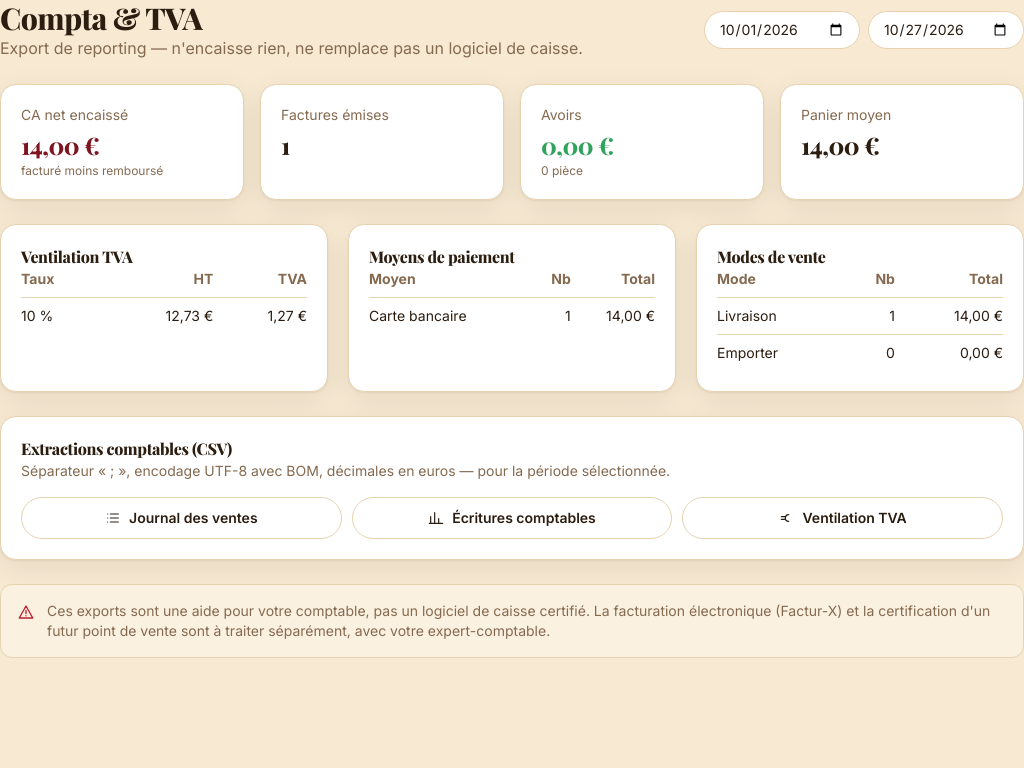
Test case: Compta — quand la lecture échoue › refuse les exports dès qu'une borne est effacée
// Le geste normal pour retaper une date : vider le champ d'abord.
Clear the date field named "Du" at (782, 30), box top-left (704, 11), bottom-right (860, 49)
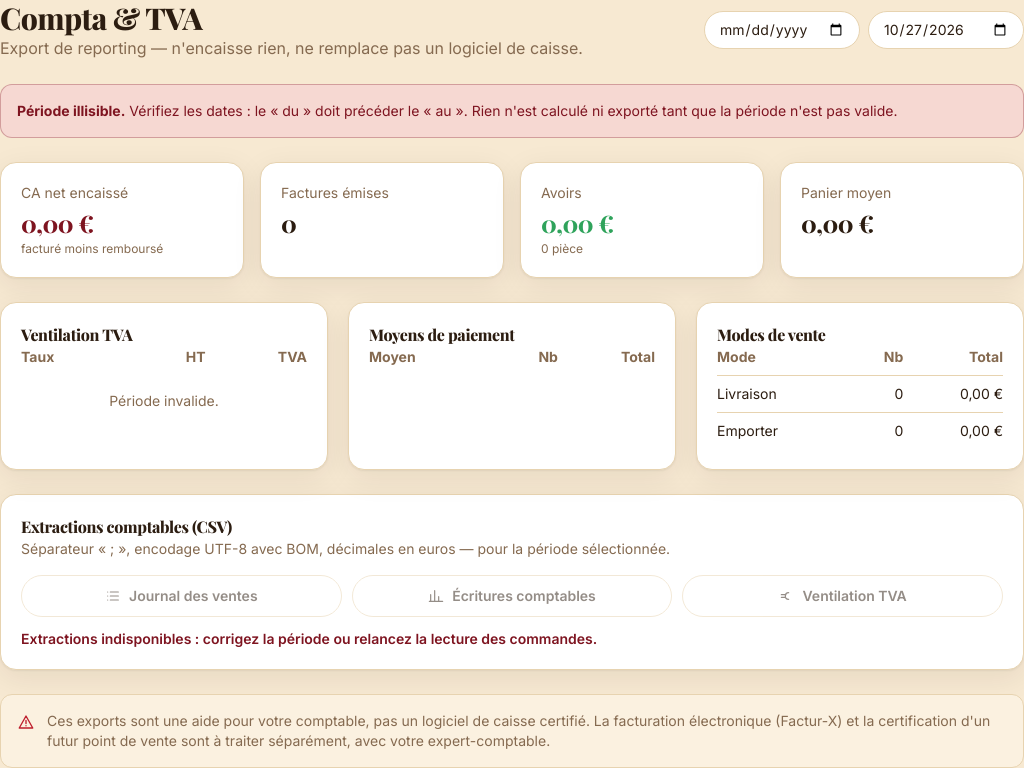
Expected: the text "Période illisible." is shown, top-left (17, 102), bottom-right (125, 119)
Expected: the button "Journal des ventes" is disabled, top-left (21, 575), bottom-right (342, 617)
